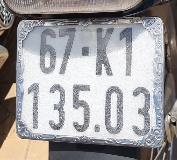0: (102, 79, 124, 138)
1: (25, 79, 42, 131), (121, 22, 134, 78)
3: (128, 83, 152, 140), (46, 79, 68, 133)
5: (71, 80, 90, 132)
6: (37, 25, 58, 74)
7: (58, 25, 77, 77)
K: (91, 21, 115, 79)
